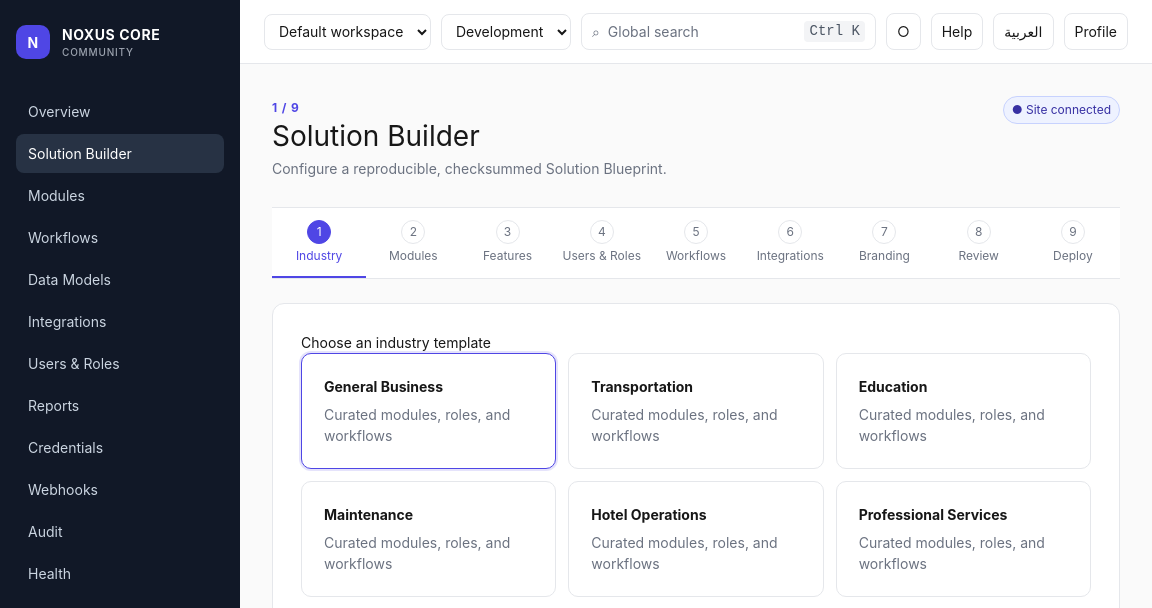
Solution Builder › switches the document to Arabic RTL at runtime
This screenshot has width=1152, height=608.
Expected: the heading "Solution Builder" is shown, [272,119,480,153]
Click the button "العربية".
click(1023, 32)  # box [993,13,1054,50]
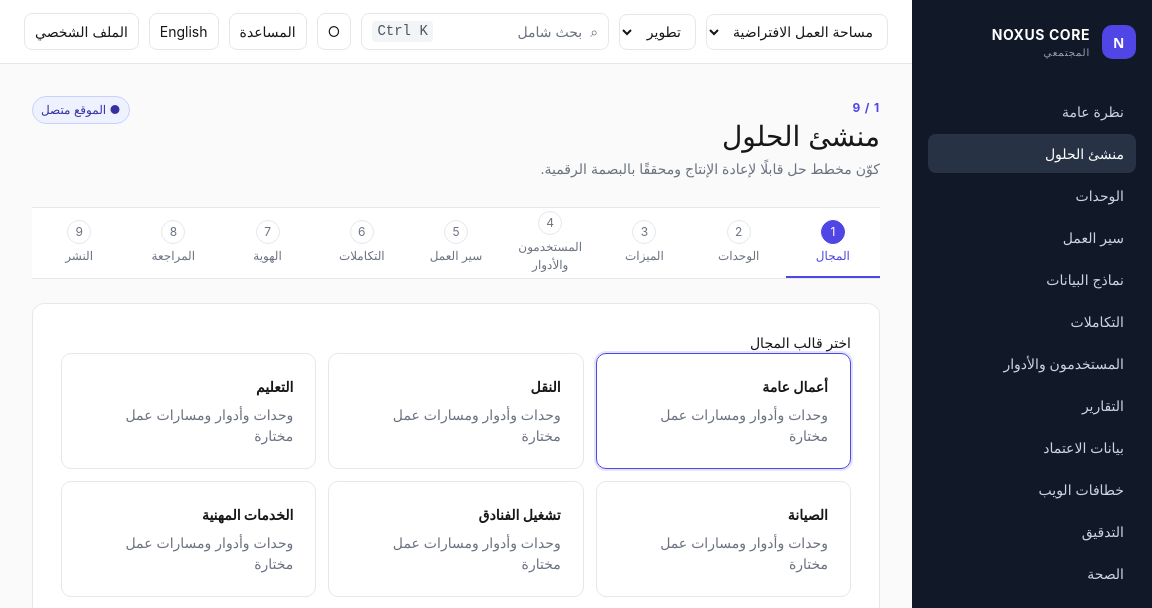
Expected: the heading "منشئ الحلول" is shown, [722,119,880,153]
